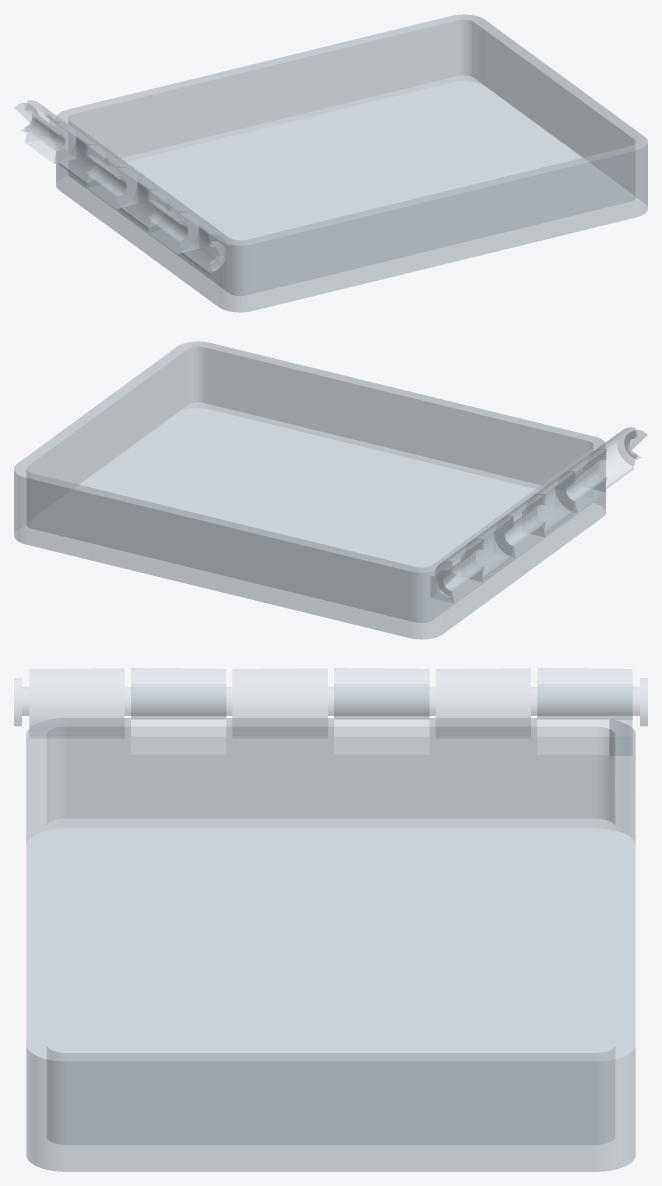
File: spring-box-lid.glb
The picture shows the model from 3 angles, top to bottom: view 1: azimuth 30°, elevation 25°; view 2: azimuth 150°, elevation 25°; view 3: azimuth 270°, elevation 25°; orthographic projection. The views are drawn at different scales.
Parts seen in each view (by area): view 1: spring-box-lid; view 2: spring-box-lid; view 3: spring-box-lid.
Part boxes in pixels (x1,y1,x2,y2): spring-box-lid: (14,14,647,312); spring-box-lid: (14,341,647,639); spring-box-lid: (14,668,647,1171).
Size of the model in its own units: 85.5 by 15.5 by 62.4.
